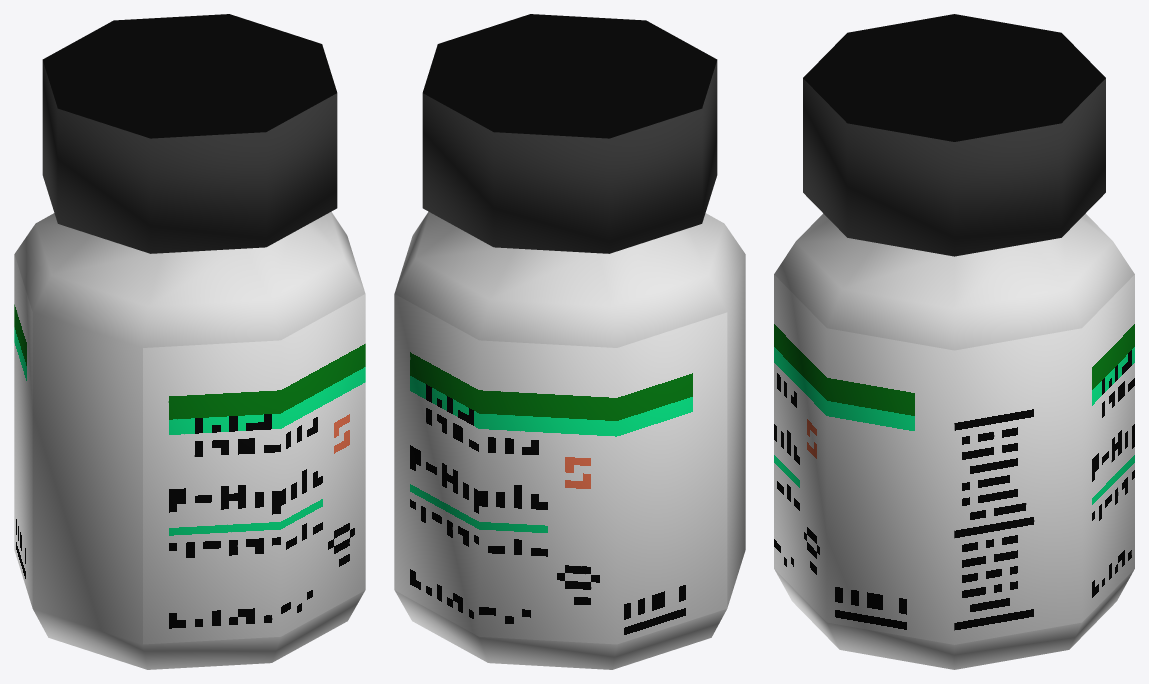
Rendered from smallbin.fbx.
3 renders of one model, left to right at view 1: azimuth 30°, elevation 25°; view 2: azimuth 150°, elevation 25°; view 3: azimuth 270°, elevation 25°, orthographic.
Visible parts, largest first — view 1: Cylinder; view 2: Cylinder; view 3: Cylinder.
Part boxes in pixels (x1=…): Cylinder: x1=14, y1=14, x2=365, y2=669; Cylinder: x1=394, y1=14, x2=745, y2=669; Cylinder: x1=774, y1=14, x2=1134, y2=669.
Bounding box in the file's own units: 10 × 16 × 10.
4 materials, 1 textured.
